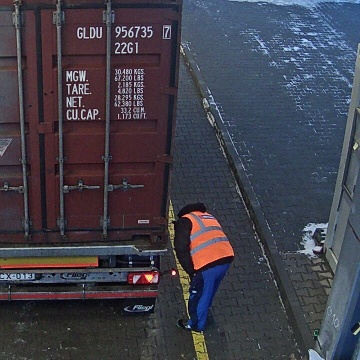serial_id: (76, 26, 170, 38)
